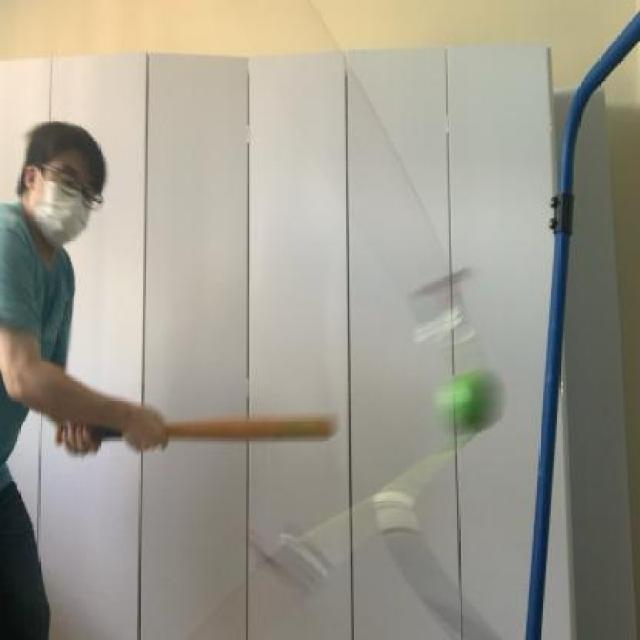baseball: (434, 353, 518, 449)
